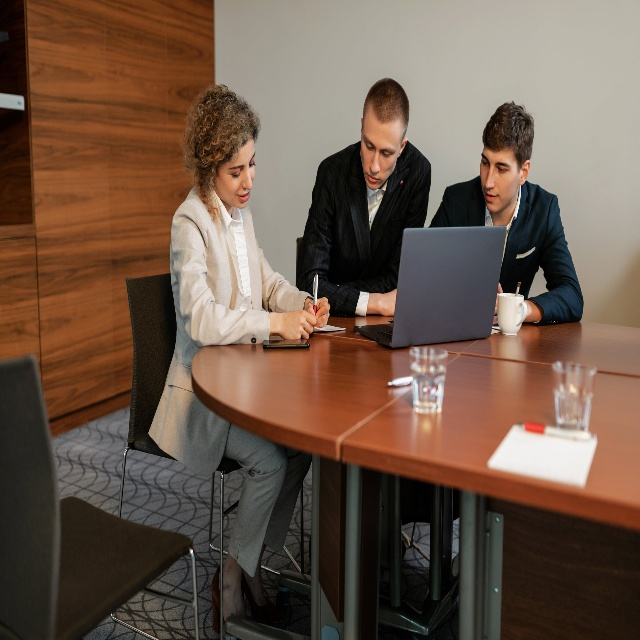Sin_guantes: (281, 309, 314, 343), (307, 296, 329, 326), (380, 289, 396, 316)
